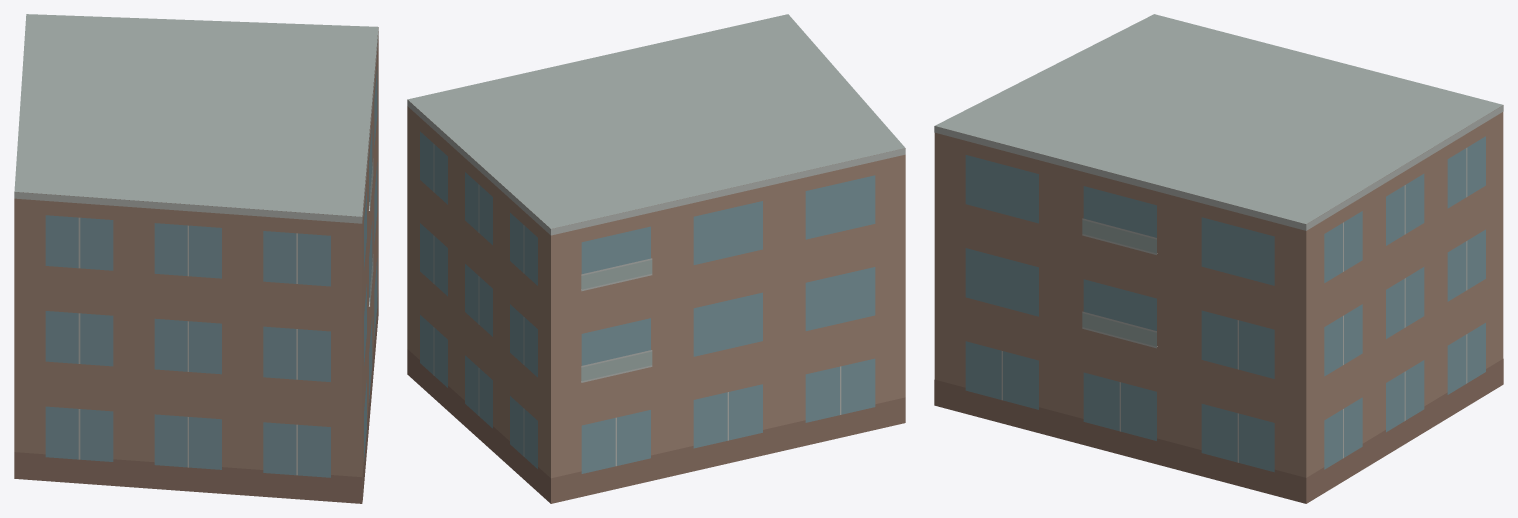
The model's file is survey-upis-32769548.glb.
The picture shows the model from 3 angles, left to right: view 1: azimuth 30°, elevation 25°; view 2: azimuth 150°, elevation 25°; view 3: azimuth 270°, elevation 25°; orthographic projection. The views are drawn at different scales.
Parts seen in each view (by area): view 1: survey-upis-32769548.tmp; view 2: survey-upis-32769548.tmp; view 3: survey-upis-32769548.tmp.
Part boxes in pixels (x1=…): survey-upis-32769548.tmp: x1=14, y1=14, x2=378, y2=503; survey-upis-32769548.tmp: x1=407, y1=14, x2=905, y2=503; survey-upis-32769548.tmp: x1=934, y1=14, x2=1503, y2=503.
Size of the model in its own units: 16.45 by 10.2 by 18.81.
